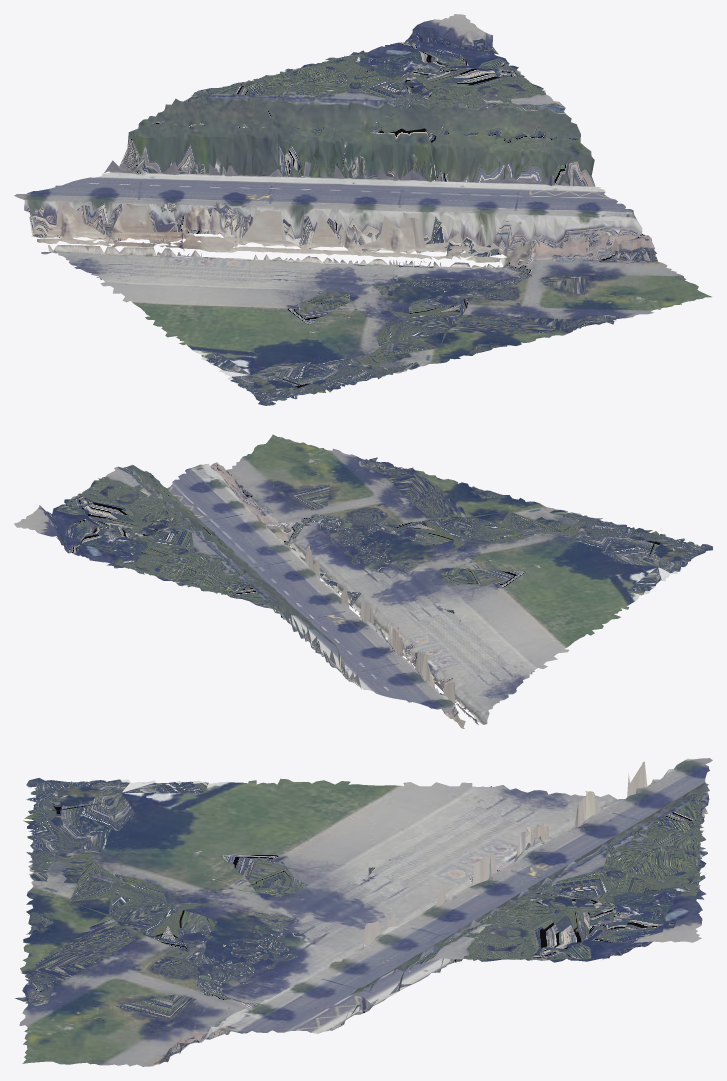
The picture shows the model from 3 angles, top to bottom: view 1: azimuth 30°, elevation 25°; view 2: azimuth 150°, elevation 25°; view 3: azimuth 270°, elevation 25°; orthographic projection. The views are drawn at different scales.
Size of the model in its own units: 104 by 24.49 by 105.
1 material, 1 textured.
